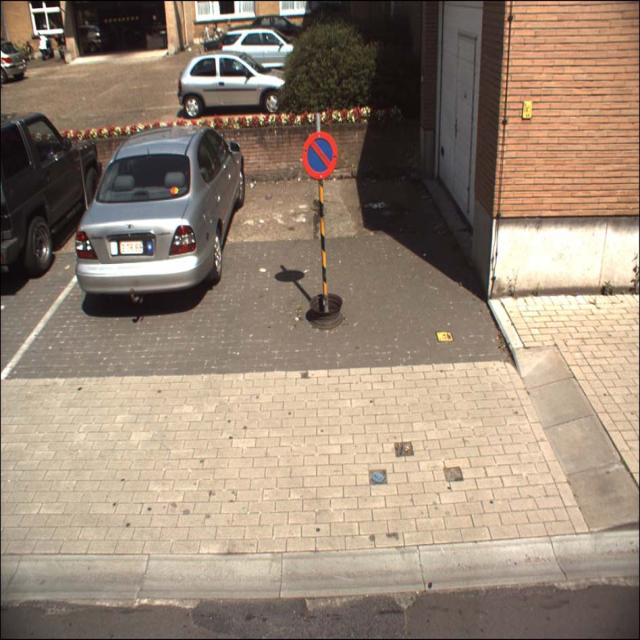parkyasak: (304, 132, 337, 180)
